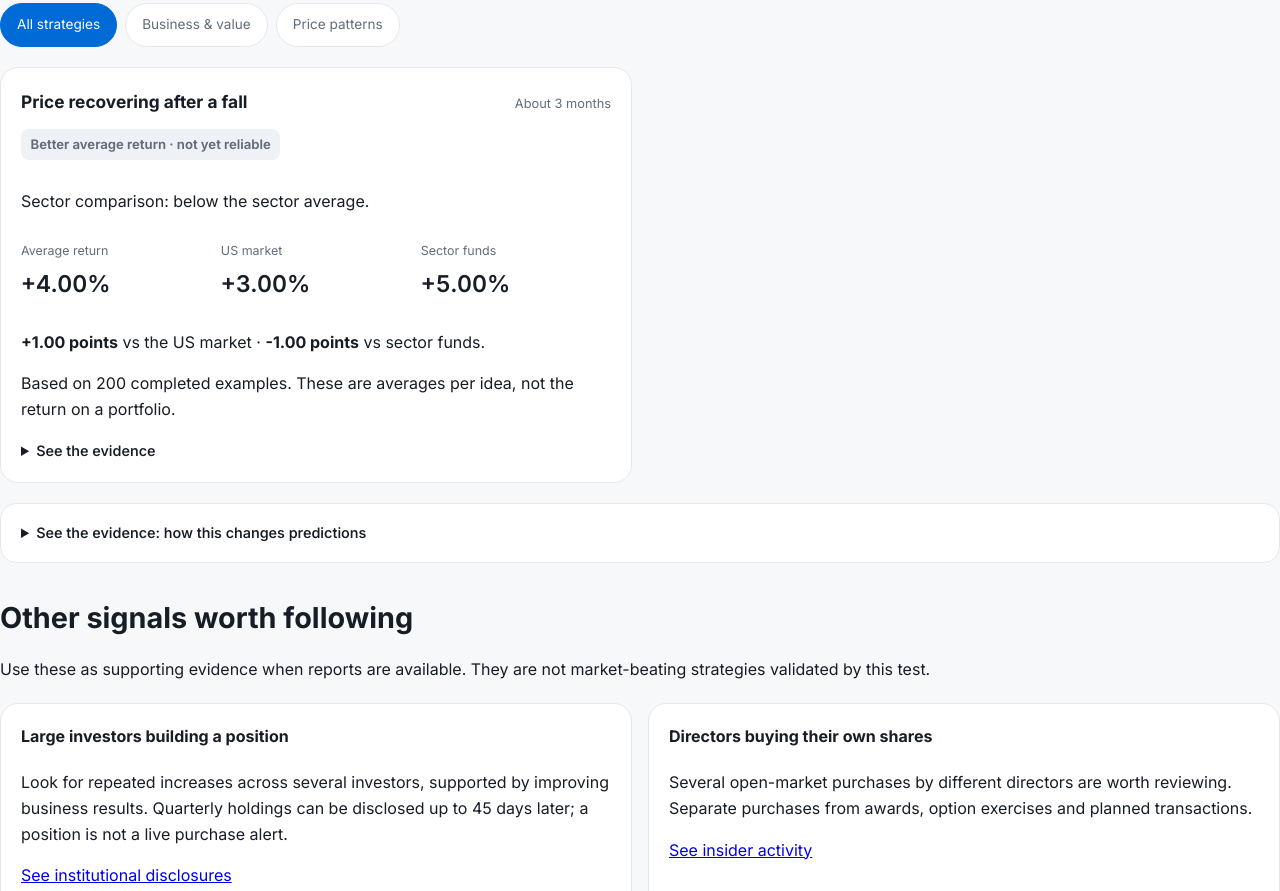
Test: historical results shown honestly › distinguishes a positive average from established outperformance and names unavailable strategies
The width and height of the screenshot is (1280, 891).
(page scrolled)
Check: the text "Better average return · not yet reliable" is shown, box [21,129,280,160]
Check: the text "Sector comparison: below the sector average." is shown, box [21,191,369,211]
Click the heading "See the evidence" at {"x": 96, "y": 450}, box [36,442,156,459]
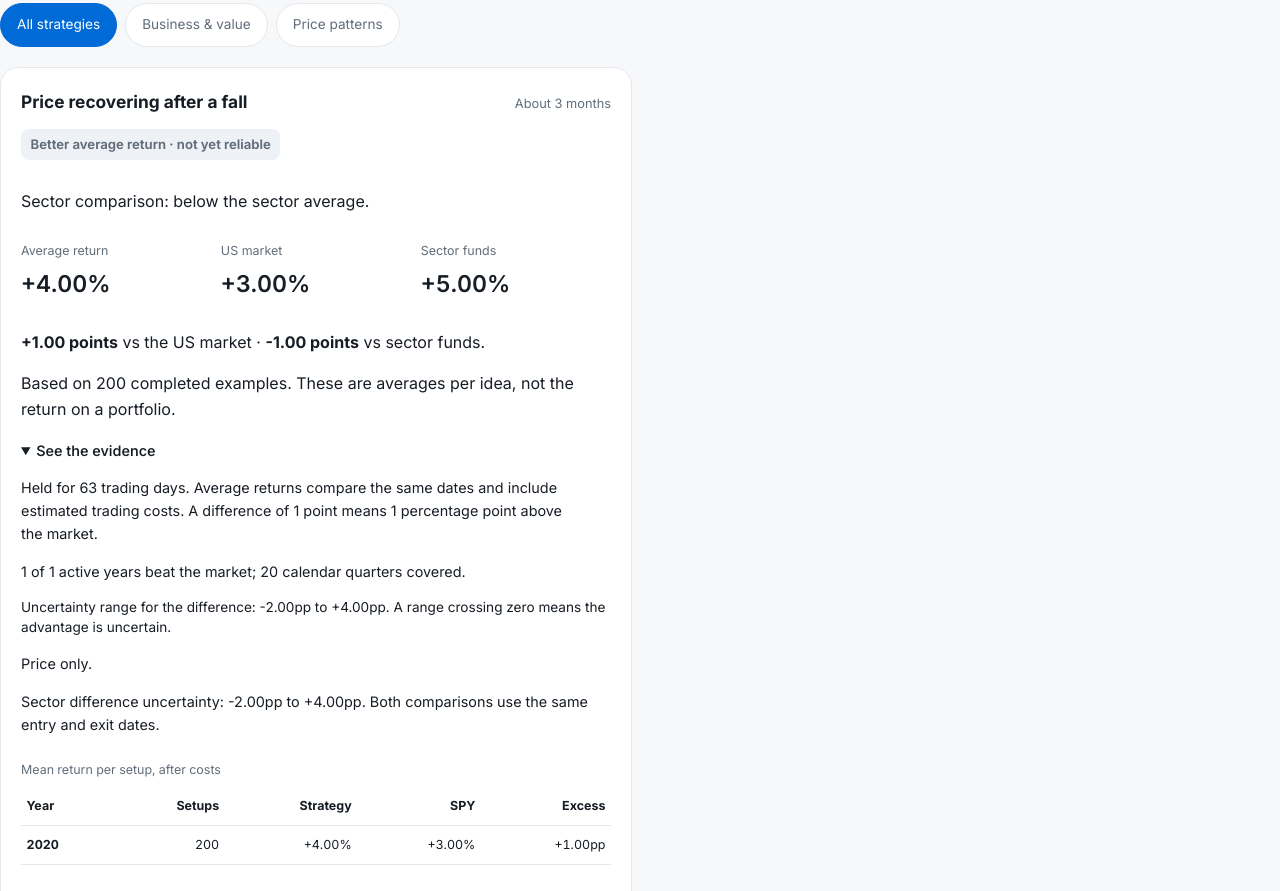
Check: the text "Uncertainty range for the difference" is shown, box [21,599,605,635]
